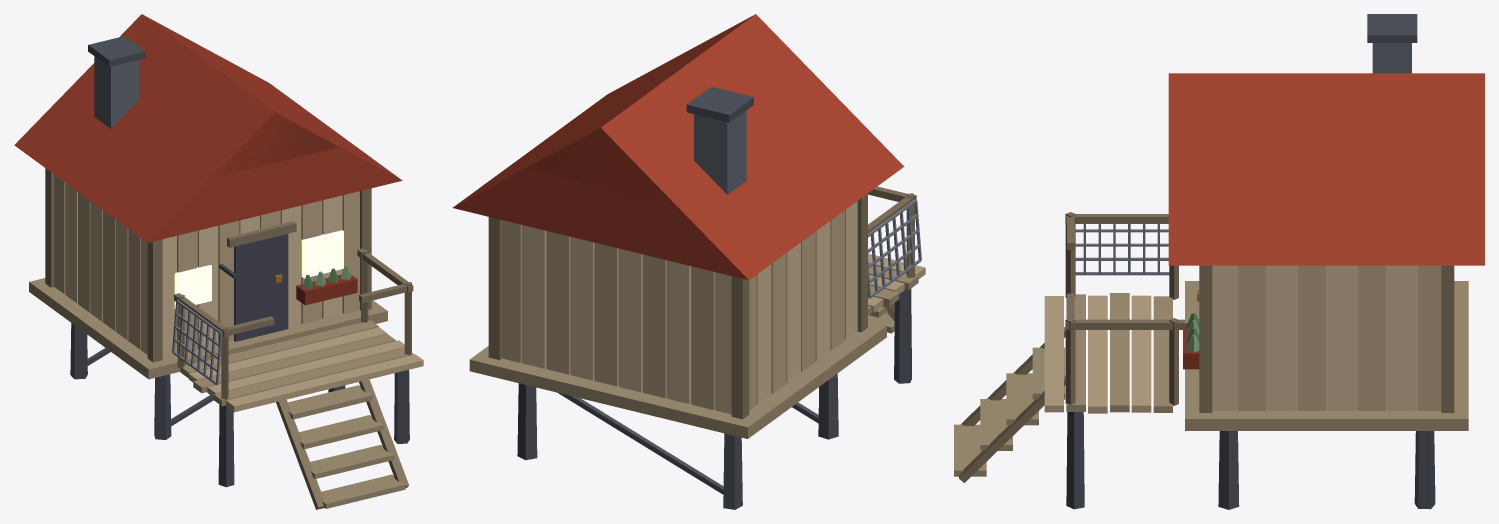
The model's file is house_porch.glb.
The picture shows the model from 3 angles, left to right: view 1: azimuth 30°, elevation 25°; view 2: azimuth 150°, elevation 25°; view 3: azimuth 270°, elevation 25°; orthographic projection. The views are drawn at different scales.
Visible parts, largest first — view 1: coal_d10, driftwood_d8, driftwood_d20, driftwood_l5, driftwood_d35, slate_d30, ink_l20, coal_d25, kindle_glow, slate_d10, slate_l10; view 2: coal_d10, driftwood_d8, driftwood_l5, driftwood_d20, slate_d30, driftwood_d35, slate_d10, slate_l10, coal_d25; view 3: coal_d10, driftwood_d8, driftwood_d20, driftwood_l5, driftwood_d35, slate_d30, slate_l10, slate_d10.
Boxes of the visible parts, x1,y1,x2,y2 form: coal_d10: (14,14,402,242); driftwood_d8: (54,175,423,412); driftwood_d20: (29,278,413,508); driftwood_l5: (65,183,342,357); driftwood_d35: (45,168,413,509); slate_d30: (70,36,409,487); ink_l20: (219,234,288,341); coal_d25: (212,113,357,305); kindle_glow: (174,230,343,308); slate_d10: (94,56,139,128); slate_l10: (172,300,222,385); coal_d10: (452,14,904,280); driftwood_d8: (502,210,925,410); driftwood_l5: (522,201,857,414); driftwood_d20: (469,266,918,438); slate_d30: (517,86,911,509); driftwood_d35: (488,186,916,419); slate_d10: (694,110,746,194); slate_l10: (868,199,921,298); coal_d25: (528,129,672,203); coal_d10: (1168,73,1484,265); driftwood_d8: (1044,265,1441,413); driftwood_d20: (954,281,1468,476); driftwood_l5: (1212,265,1417,410); driftwood_d35: (959,212,1454,482); slate_d30: (1066,14,1435,509); slate_l10: (1075,224,1169,275); slate_d10: (1372,43,1411,73).
Size of the model in its own units: 3.2 by 4 by 4.87.
